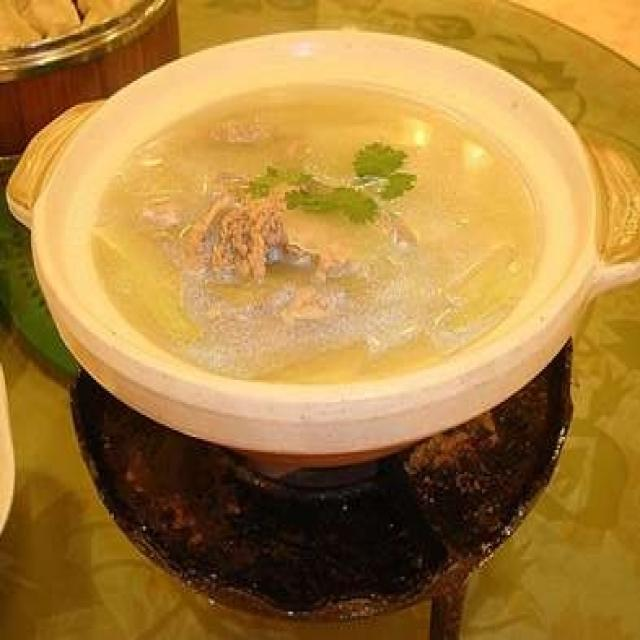汤锅炖物: (37, 33, 601, 561)
